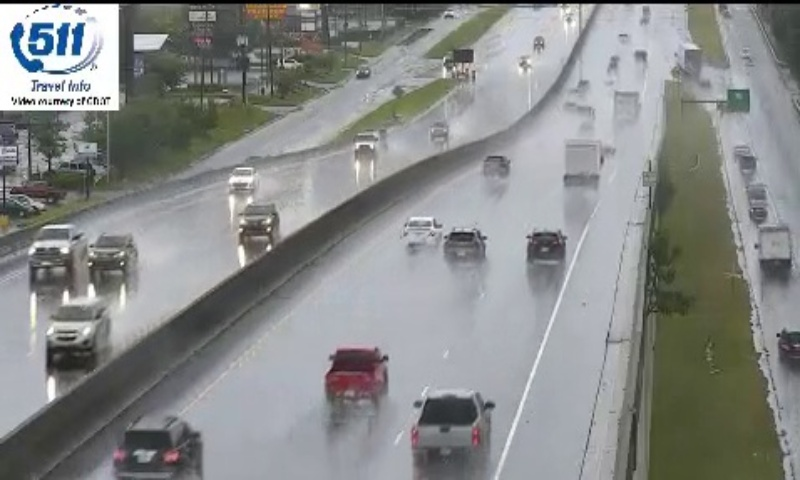car: (411, 388, 490, 464), (113, 417, 200, 480), (324, 346, 388, 401), (443, 228, 485, 264), (527, 230, 567, 262), (401, 217, 441, 247)
